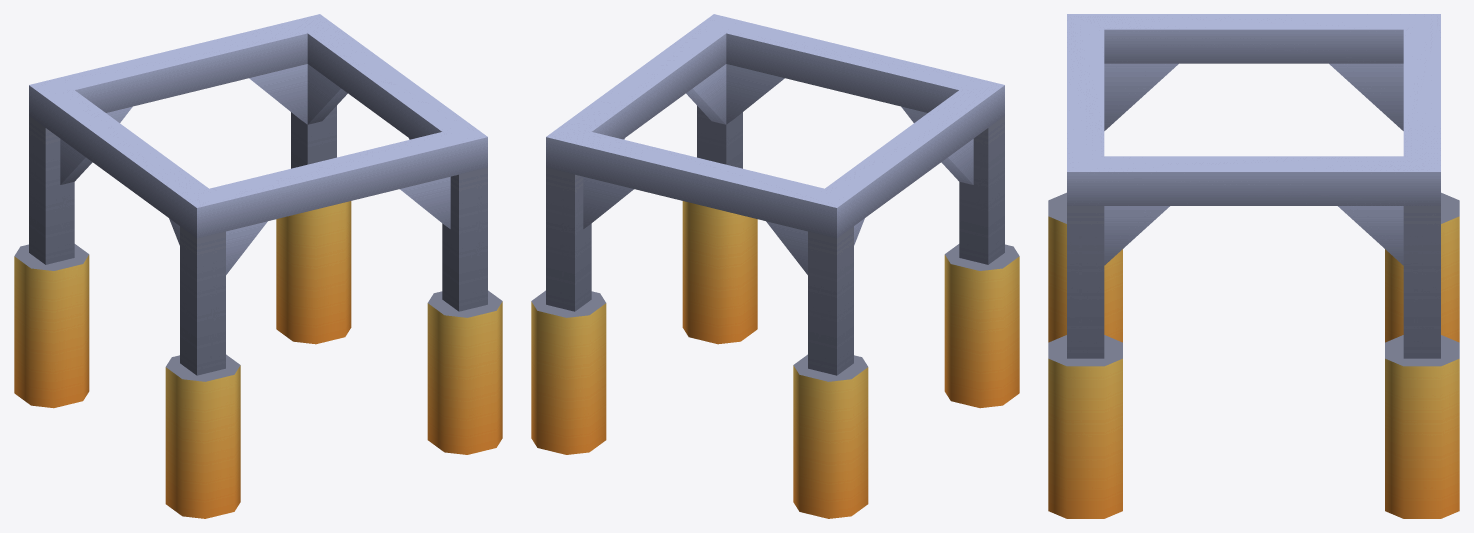
Rendered from kenney-space-station_structure-barrier-high.glb.
3 views of the same model, side by side, from view 1: azimuth 30°, elevation 25°; view 2: azimuth 150°, elevation 25°; view 3: azimuth 270°, elevation 25° (orthographic). The views are drawn at different scales.
Parts seen in each view (by area): view 1: Group (×14); view 2: Group (×14); view 3: Group (×11).
Part boxes in pixels (left/top/right/bottom): Group (×14): left=14, top=14, right=502, bottom=518; Group (×14): left=531, top=14, right=1019, bottom=518; Group (×11): left=1048, top=14, right=1459, bottom=518.
Size of the model in its own units: 1.1 by 1 by 1.1.
1 material, 1 textured.
